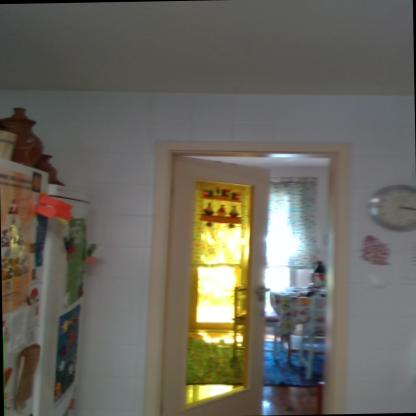semi: (141, 127, 362, 415)
